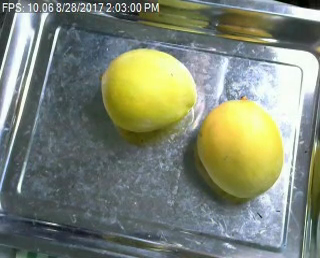Mango: (196, 92, 287, 198), (96, 46, 196, 136)
